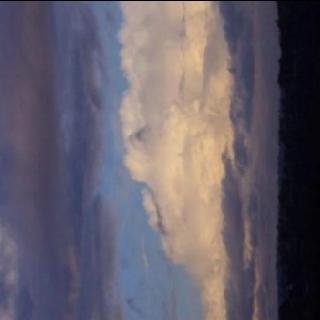Stratocumulus: (0, 0, 265, 320)
